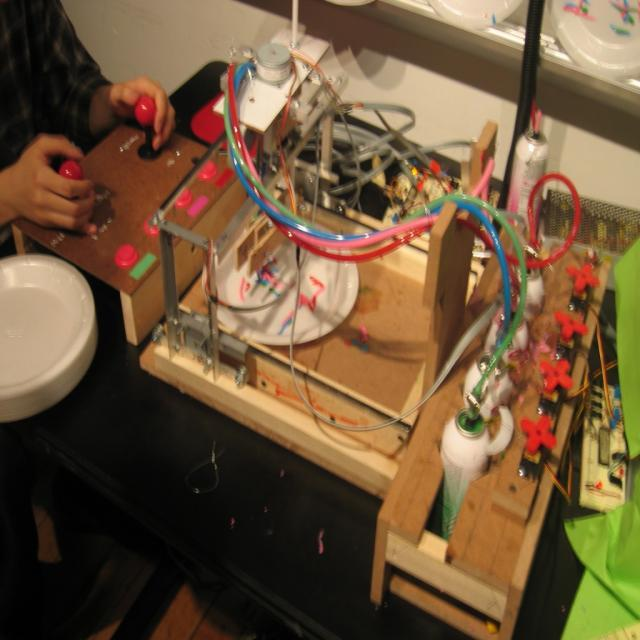ceramic plate: (0, 220, 107, 435)
